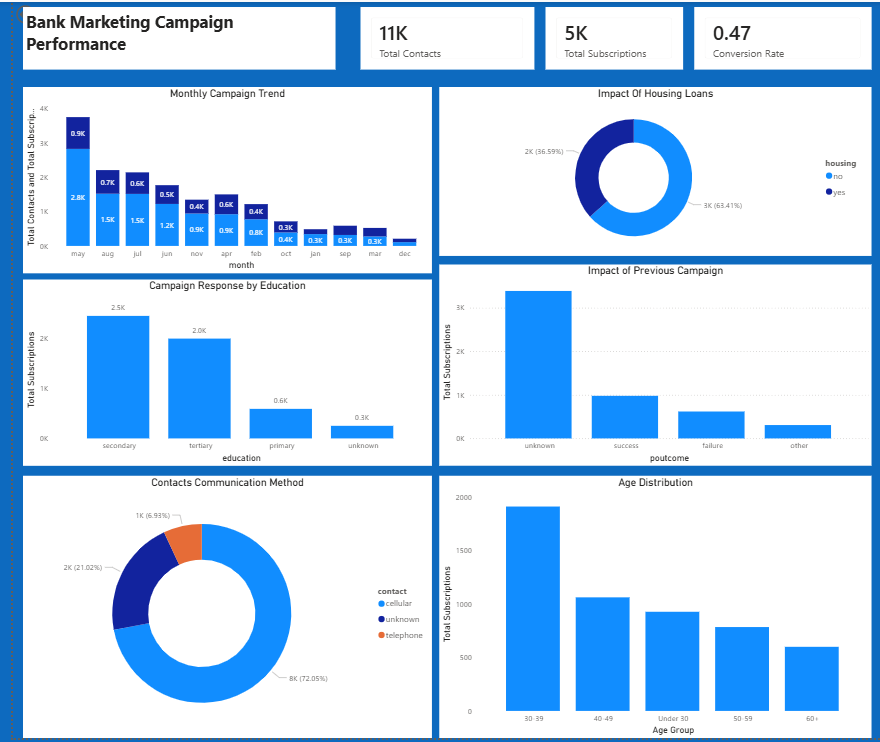

The dashboard page shown, as its layout file describes it:
{"tool":"powerbi","page":{"name":"Bank Marketing Campaign Performance ","canvas":[1396,1185],"ordinal":0},"visuals":[{"type":"cardVisual","fields":{"Data":["bank.Total Contacts"]},"box":[559.5,8.1,279.7,100.6],"z":0},{"type":"actionButton","box":[0,0,100,40],"z":1},{"type":"cardVisual","fields":{"Data":["bank.Total Subscriptions"]},"box":[857.4,8.1,221.4,100.6],"z":2},{"type":"cardVisual","fields":{"Data":["bank.Conversion Rate"]},"box":[1096.9,8.1,285.8,100.6],"z":3},{"type":"columnChart","title":"Monthly Campaign Trend ","fields":{"Category":["bank.month"],"Y":["bank.Total Contacts","bank.Total Subscriptions"]},"box":[16.1,136.9,658.1,299.9],"z":4},{"type":"donutChart","title":"Impact Of Housing Loans ","fields":{"Category":["bank.housing"],"Y":["bank.Total Subscriptions"]},"box":[686.3,136.9,696.4,271.7],"z":5},{"type":"columnChart","title":"Campaign Response by  Education","fields":{"Category":["bank.education"],"Y":["bank.Total Subscriptions"]},"box":[16.1,446.8,658.1,299.9],"z":6},{"type":"columnChart","title":"Impact of Previous Campaign ","fields":{"Category":["bank.poutcome"],"Y":["bank.Total Subscriptions"]},"box":[686.3,422.6,696.4,324],"z":7},{"type":"donutChart","title":"Contacts  Communication Method","fields":{"Category":["bank.contact"],"Y":["bank.Total Contacts"]},"box":[16.1,762.8,658.1,422.6],"z":8},{"type":"columnChart","title":" Age Distribution ","fields":{"Y":["bank.Total Subscriptions"],"Category":["bank.Age Group"]},"box":[686.3,762.8,696.4,422.6],"z":9},{"type":"textbox","box":[16.1,8.1,503.1,100.6],"z":10}]}

Visuals, with their boxes in screenshot pixels (x1, y1, x2, y2), scaled from the page's 1396x1185 canvas onto the 880x742 screenshot:
cardVisual - bank.Total Contacts: x1=353, y1=5, x2=529, y2=68
actionButton: x1=0, y1=0, x2=63, y2=25
cardVisual - bank.Total Subscriptions: x1=540, y1=5, x2=680, y2=68
cardVisual - bank.Conversion Rate: x1=691, y1=5, x2=872, y2=68
"Monthly Campaign Trend " columnChart: x1=10, y1=86, x2=425, y2=274
"Impact Of Housing Loans " donutChart: x1=433, y1=86, x2=872, y2=256
"Campaign Response by  Education" columnChart: x1=10, y1=280, x2=425, y2=468
"Impact of Previous Campaign " columnChart: x1=433, y1=265, x2=872, y2=467
"Contacts  Communication Method" donutChart: x1=10, y1=478, x2=425, y2=741
" Age Distribution " columnChart: x1=433, y1=478, x2=872, y2=741
textbox: x1=10, y1=5, x2=327, y2=68
